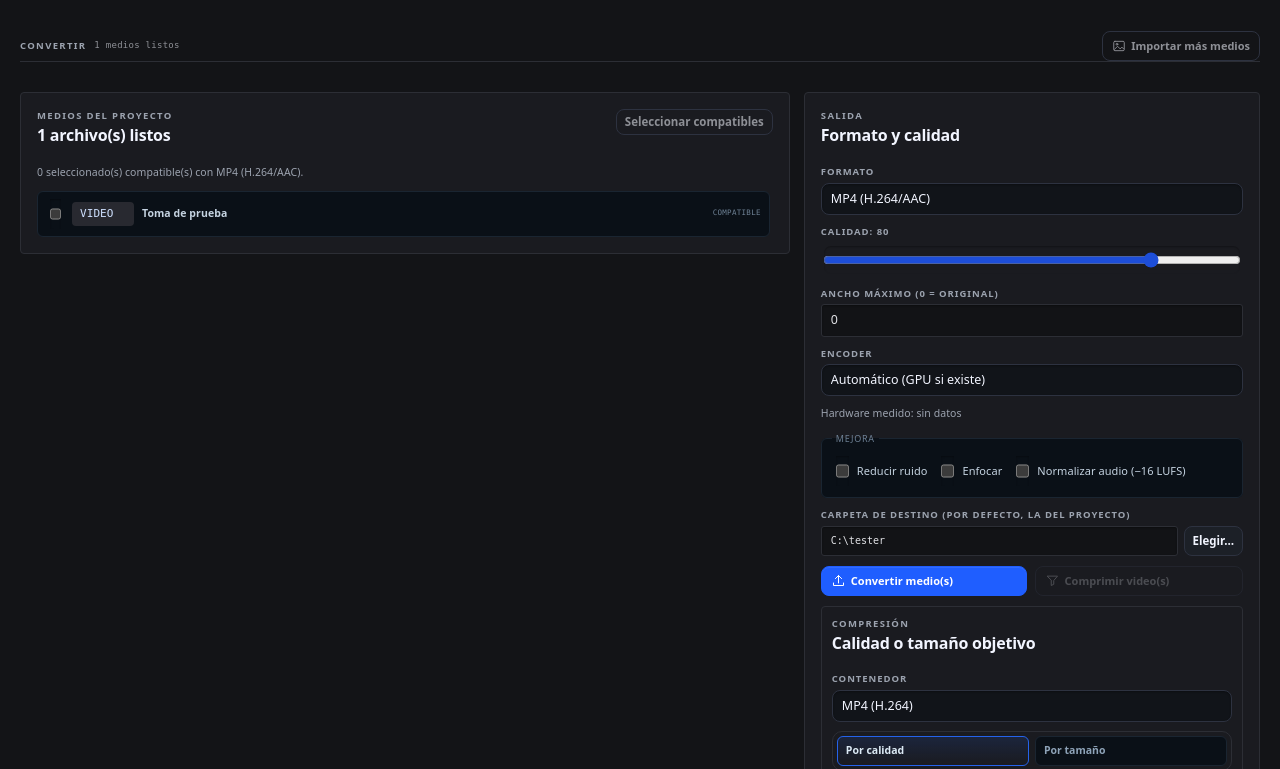
Test: ConvertView · lote, compresión y formatos › comprime con tamaño objetivo usando el modo tamaño
Click the button "Seleccionar compatibles": (694, 122) [616,109,773,135]
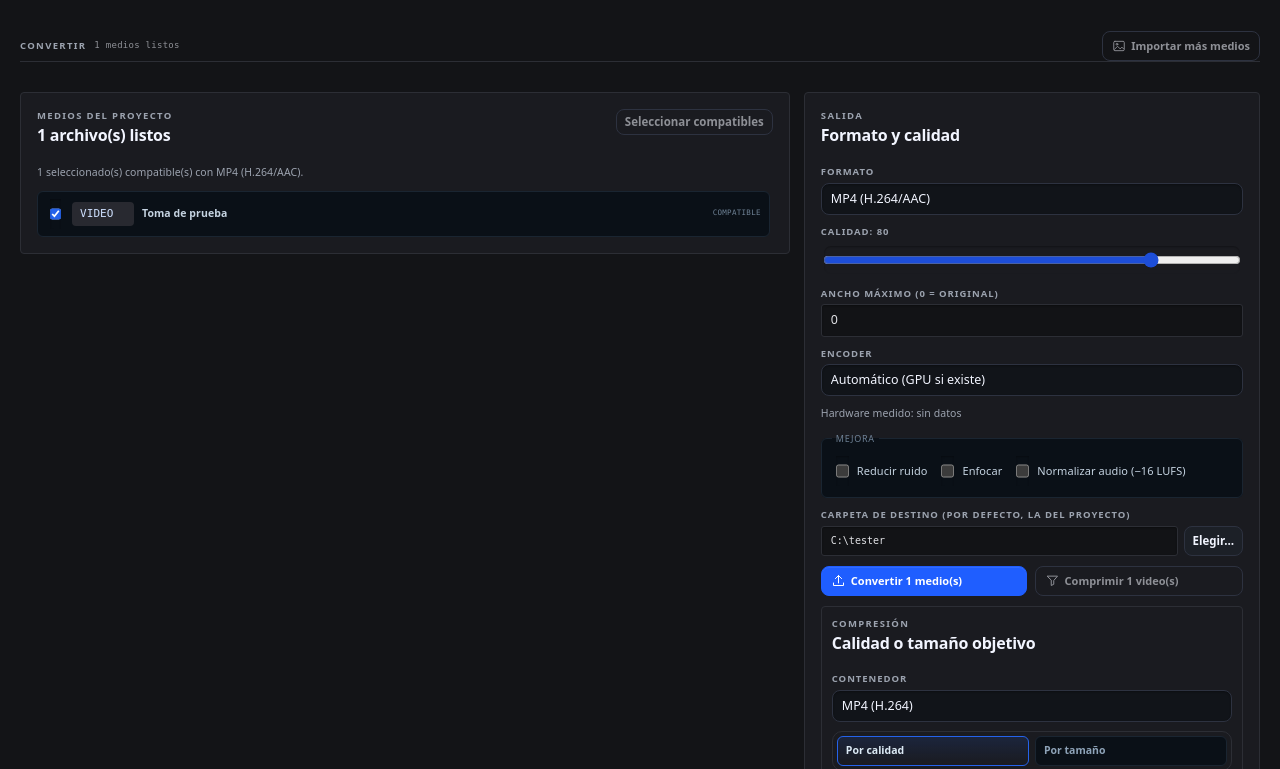
Click the tab "Por tamaño": (1131, 751) [1035,736,1227,766]
(page scrolled)
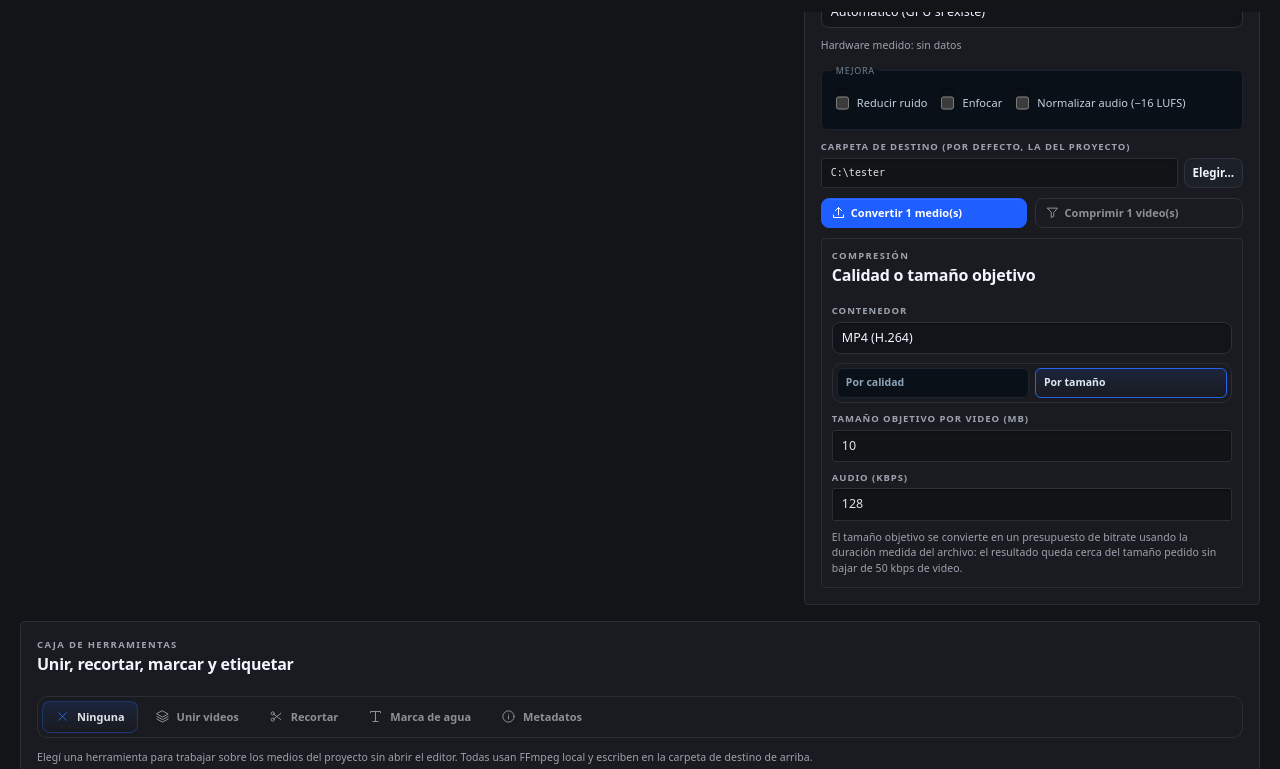
Replace the text in the number field labelled "Tamaño objetivo por video (MB)" with "5": (1032, 446) [832,430,1232,462]
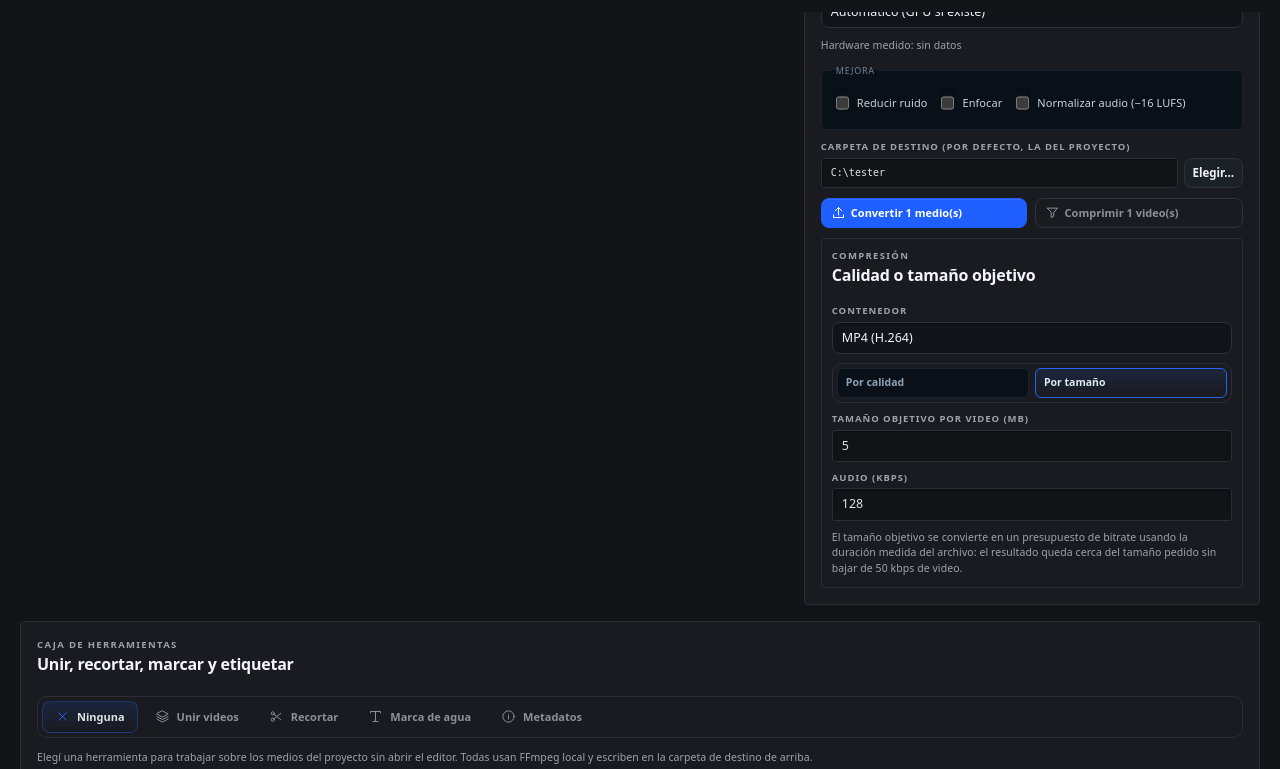
Click the button "Comprimir 1 video(s)": (1139, 213) [1035,198,1243,228]
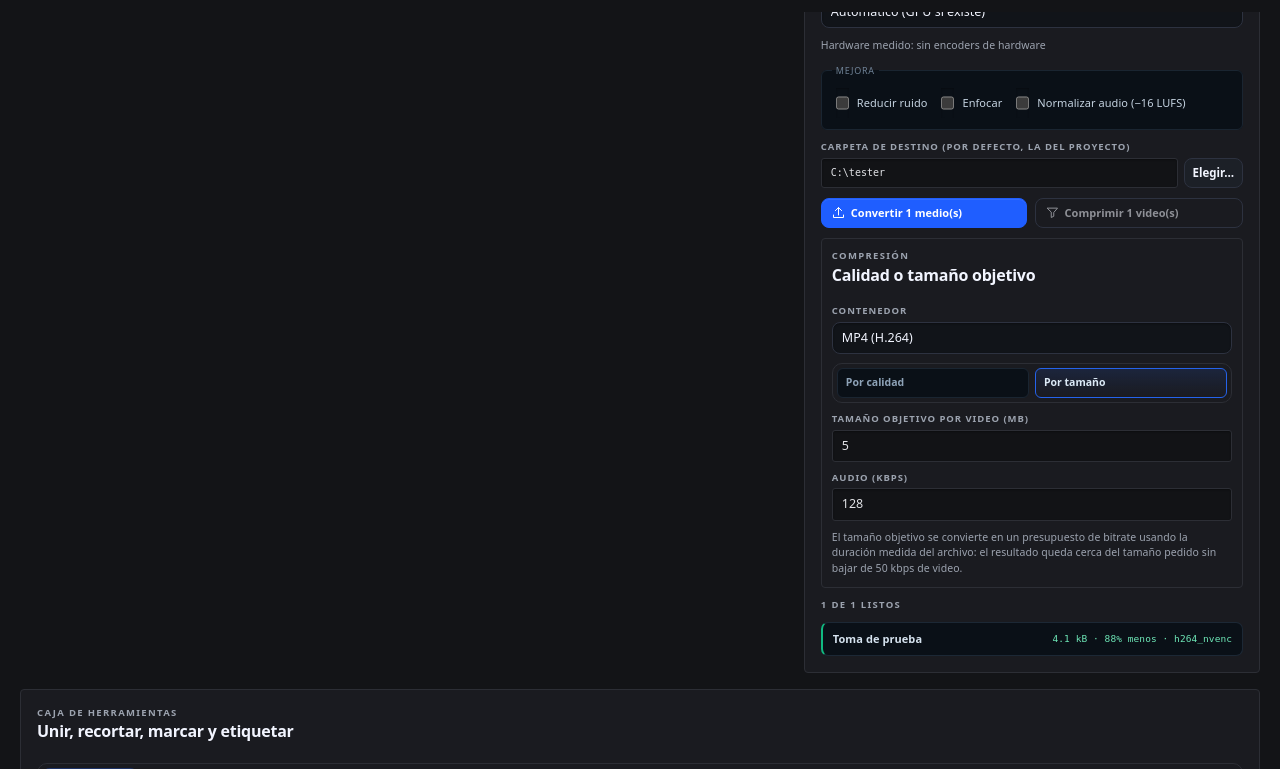
expect the text "1 de 1 listos" is shown: met, box [821,598,901,611]
expect the message with class "convert-results" shows "4.1 kB": met, box [1052,633,1087,644]
expect the message with class "convert-results" shows "h264_nvenc": met, box [1157,633,1232,644]
